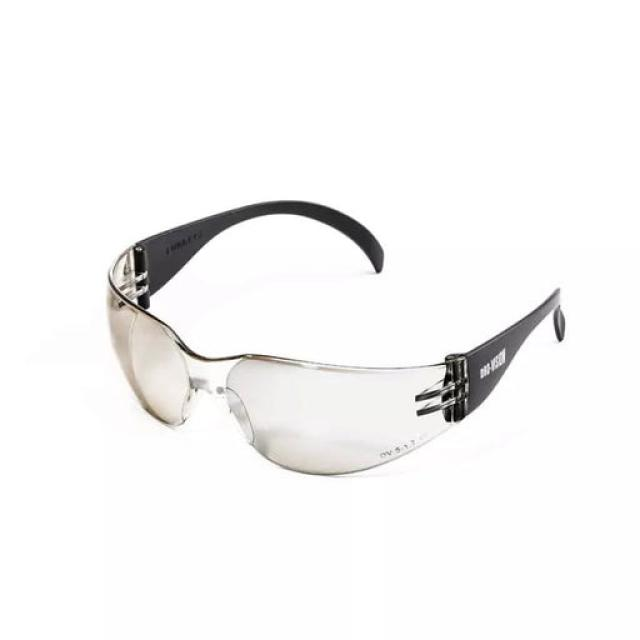Protective Glasses: (72, 168, 601, 498)
